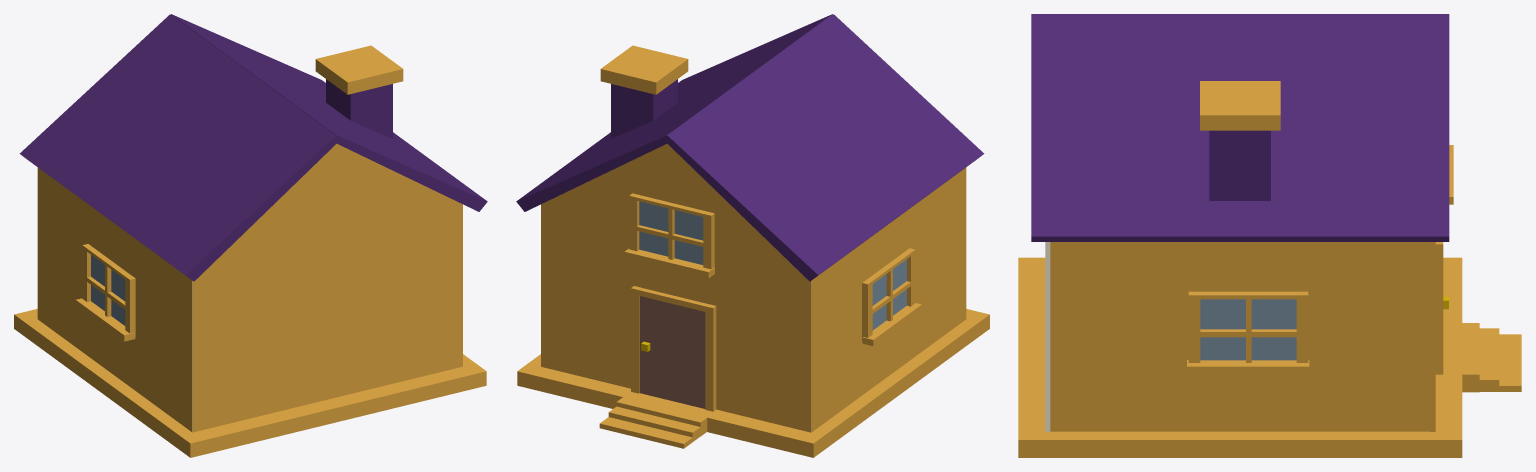
The model's file is Purple Roof House FBX.fbx.
3 renders of one model, left to right at view 1: azimuth 30°, elevation 25°; view 2: azimuth 150°, elevation 25°; view 3: azimuth 270°, elevation 25°, orthographic. The views are drawn at different scales.
Visible parts, largest first — view 1: pCube5; view 2: pCube5; view 3: pCube5.
Boxes of the visible parts, x1=… form: pCube5: x1=14, y1=14, x2=487, y2=457; pCube5: x1=516, y1=14, x2=989, y2=457; pCube5: x1=1018, y1=14, x2=1521, y2=457.
Size of the model in its own units: 7.12 by 6.34 by 8.15.
